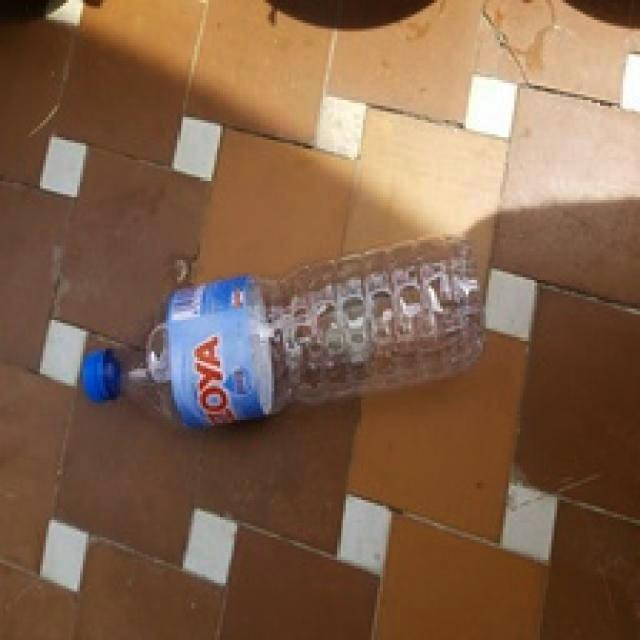bottle: (81, 233, 485, 433)
